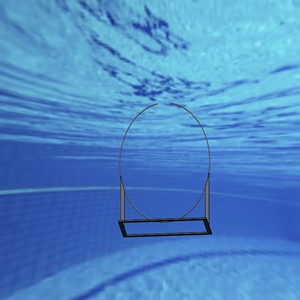circle: (117, 101, 213, 238)
